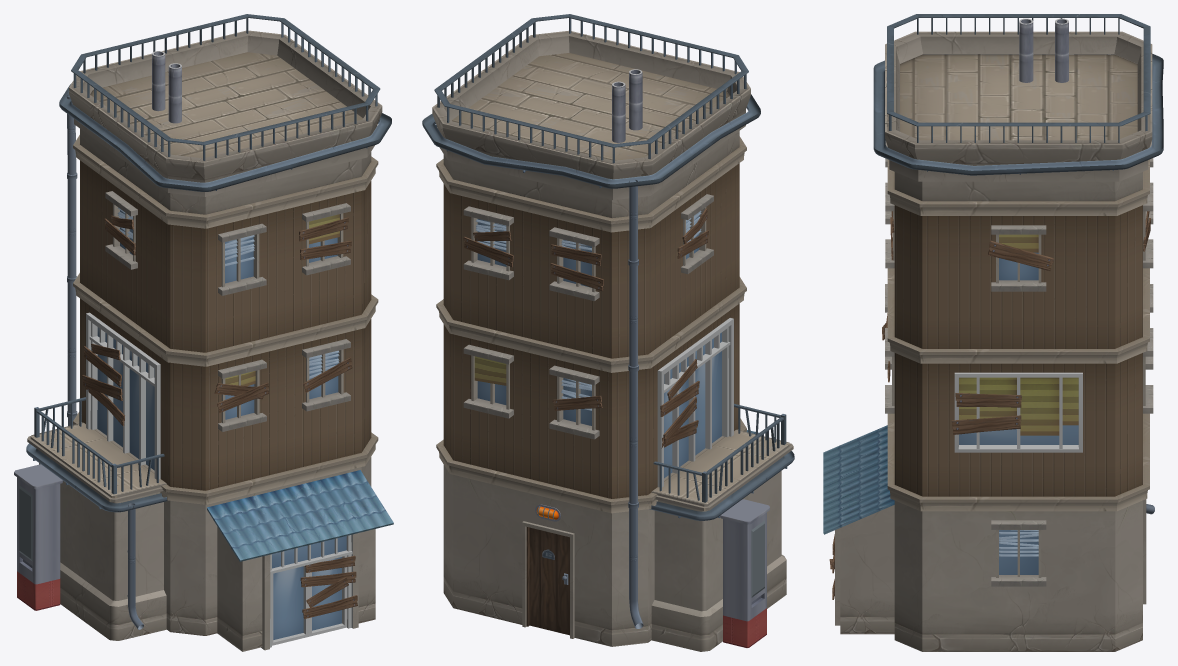
The model's file is Building_02_1.fbx.
The picture shows the model from 3 angles, left to right: view 1: azimuth 30°, elevation 25°; view 2: azimuth 150°, elevation 25°; view 3: azimuth 270°, elevation 25°; orthographic projection. The views are drawn at different scales.
Visible parts, largest first — view 1: polySurface1532; view 2: polySurface1532; view 3: polySurface1532.
Boxes of the visible parts, <box> form: polySurface1532: <box>14,14,393,651</box>; polySurface1532: <box>422,14,794,651</box>; polySurface1532: <box>823,14,1163,651</box>.
Bounding box in the file's own units: 736 × 1211 × 673.
